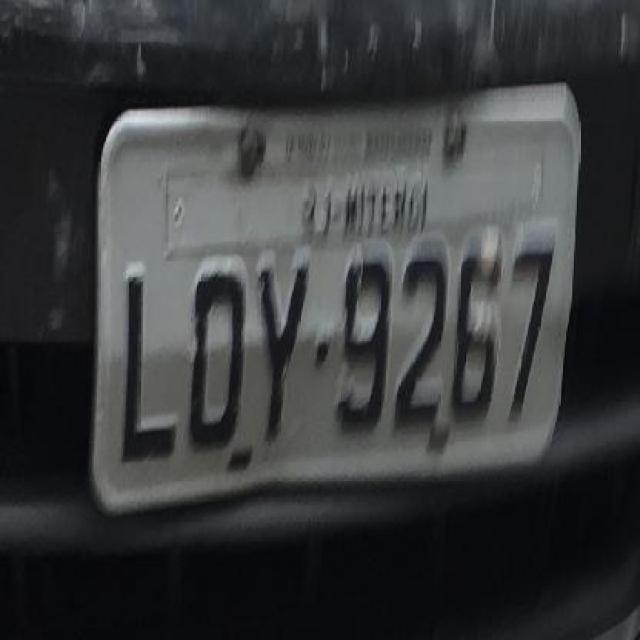old_plate: (79, 58, 595, 526)
